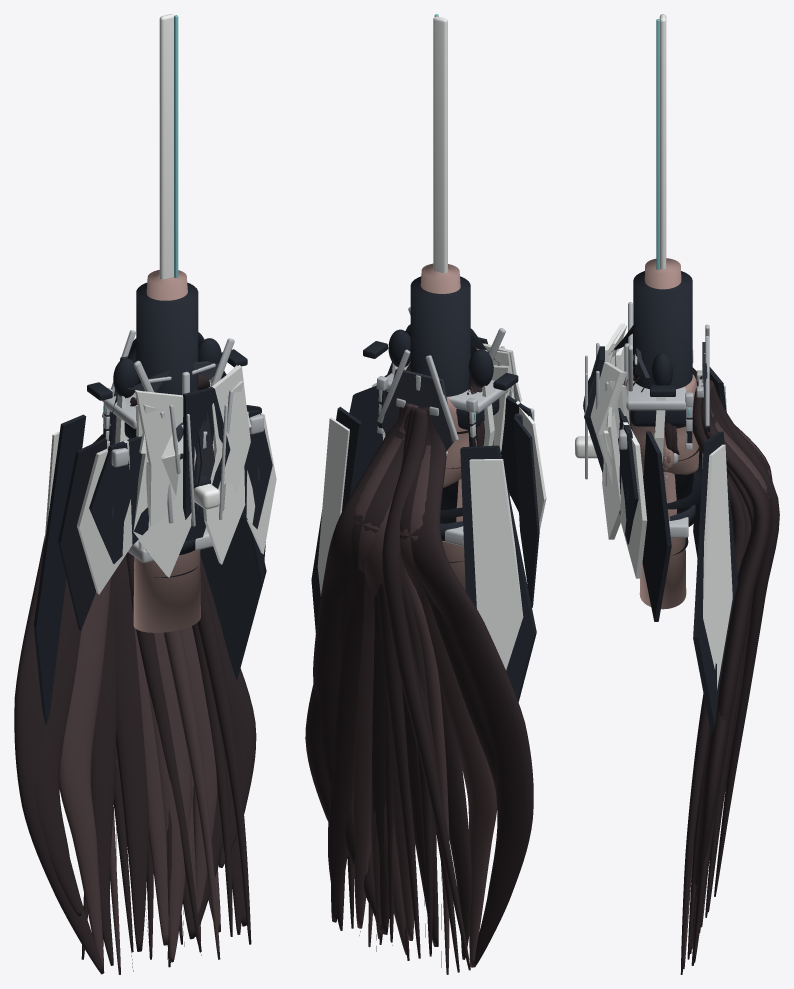
The model's file is heroine-blender.glb.
3 views of the same model, side by side, from view 1: azimuth 30°, elevation 25°; view 2: azimuth 150°, elevation 25°; view 3: azimuth 270°, elevation 25° (orthographic). The views are drawn at different scales.
Visible parts, largest first — view 1: PonyWingV67_1, PonyFoundationV65_0, HeroPonyV124_L, PonyWingV67_0, RearTailV40_L, PonyFanV66_0, ThighL_core, ThighBootTopL, RearTailV40_R, HeroPonyV124_M, HipPetalV40_L, PonyMassV59_10 (+25 smaller); view 2: HeroPonyV124_L, PonyWingV67_1, PonyMassV59_0, RearTailInlayV40_L, HeroPonyV124_R, ThighBootTopL, PonyFoundationV65_4, PonyFoundationV65_3, RearTailV40_L, PonyWingV67_3, SwordBlade, PonyMassV59_4 (+27 smaller); view 3: ThighBootTopL, HeroPonyV124_R, RearTailInlayV40_R, PonyMassV59_0, RearTailV40_R, SplitUnderV40_R, PonyMassV59_10, ThighL_core, PonyWingV67_3, OuterPetalV40_R, SwordBlade, PorcelainShellV68_R (+16 smaller).
Part boxes in pixels (bbox=[...]): PonyWingV67_1: bbox=[59, 577, 110, 969]; PonyFoundationV65_0: bbox=[113, 555, 148, 951]; HeroPonyV124_L: bbox=[14, 426, 110, 974]; PonyWingV67_0: bbox=[34, 578, 81, 916]; RearTailV40_L: bbox=[33, 414, 86, 725]; PonyFanV66_0: bbox=[91, 573, 116, 965]; ThighL_core: bbox=[133, 270, 200, 632]; ThighBootTopL: bbox=[136, 282, 198, 395]; RearTailV40_R: bbox=[200, 515, 266, 680]; HeroPonyV124_M: bbox=[147, 632, 191, 962]; HipPetalV40_L: bbox=[89, 436, 148, 563]; PonyMassV59_10: bbox=[197, 570, 251, 944]; HeroPonyV124_L: bbox=[412, 407, 533, 967]; PonyWingV67_1: bbox=[399, 445, 496, 967]; PonyMassV59_0: bbox=[382, 408, 470, 970]; RearTailInlayV40_L: bbox=[469, 459, 523, 670]; HeroPonyV124_R: bbox=[313, 403, 407, 931]; ThighBootTopL: bbox=[410, 276, 470, 523]; PonyFoundationV65_4: bbox=[331, 421, 401, 922]; PonyFoundationV65_3: bbox=[351, 576, 374, 928]; RearTailV40_L: bbox=[460, 445, 536, 701]; PonyWingV67_3: bbox=[305, 431, 404, 857]; SwordBlade: bbox=[433, 16, 447, 273]; PonyMassV59_4: bbox=[377, 421, 420, 958]; ThighBootTopL: bbox=[633, 271, 692, 513]; HeroPonyV124_R: bbox=[692, 404, 770, 929]; RearTailInlayV40_R: bbox=[703, 444, 732, 689]; PonyMassV59_0: bbox=[709, 379, 779, 896]; RearTailV40_R: bbox=[693, 431, 738, 735]; SplitUnderV40_R: bbox=[642, 431, 671, 621]; PonyMassV59_10: bbox=[680, 390, 745, 974]; ThighL_core: bbox=[639, 258, 686, 609]; PonyWingV67_3: bbox=[694, 415, 771, 886]; OuterPetalV40_R: bbox=[620, 422, 647, 578]; SwordBlade: bbox=[659, 14, 666, 269]; PorcelainShellV68_R: bbox=[590, 362, 624, 484].
Bounding box in the file's own units: 0.7251 × 2.81 × 0.5649.
